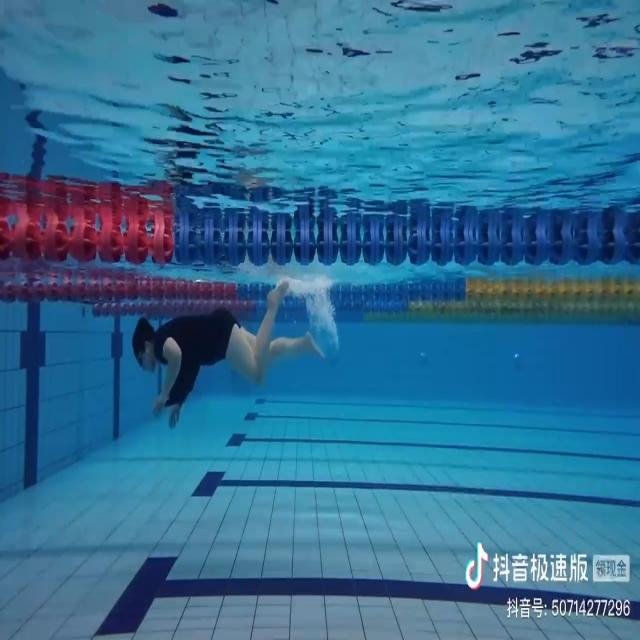Swimming: (130, 280, 326, 429)
